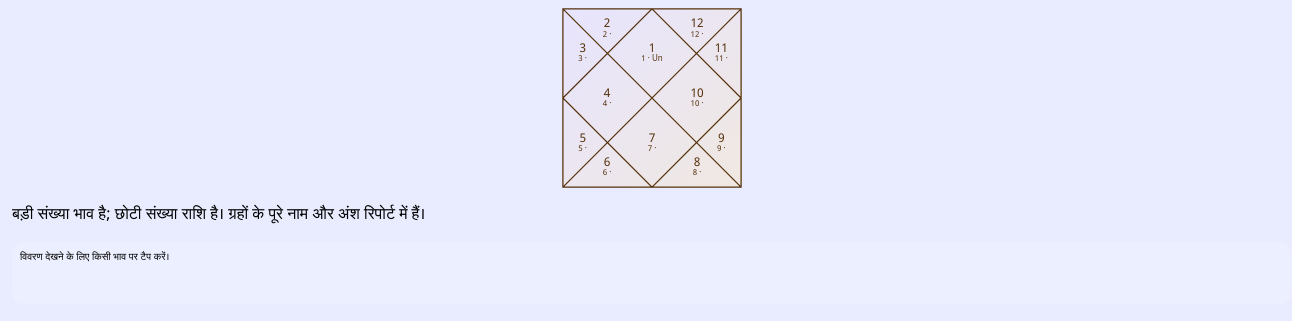
Test case: explains empty calculated houses in hi
Click the button "2 2 ·" at {"x": 607, "y": 29}, box top-left (590, 12), bottom-right (624, 46)
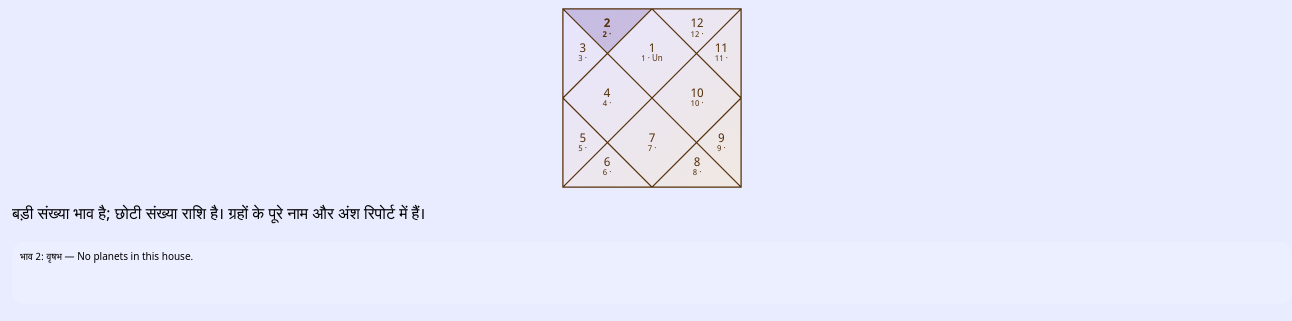
Expected: the text "भाव 2: वृषभ — No planets in this house." is shown, top-left (12, 242), bottom-right (1291, 304)
